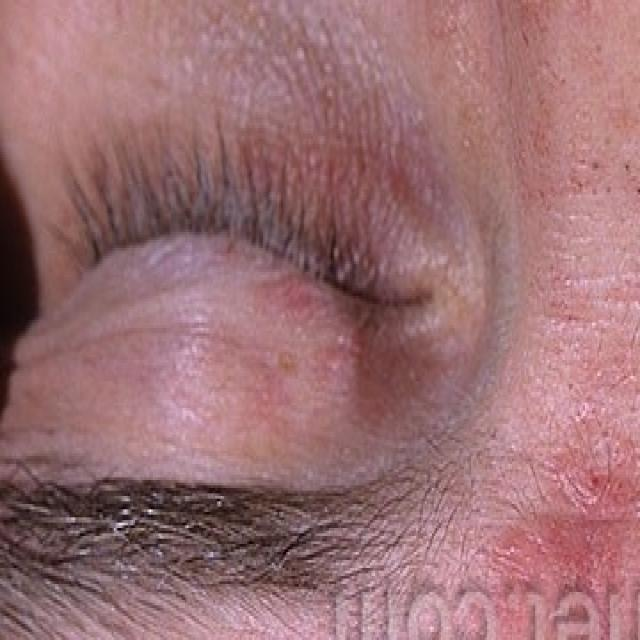Rosacea: (8, 288, 355, 456), (491, 434, 640, 616)
